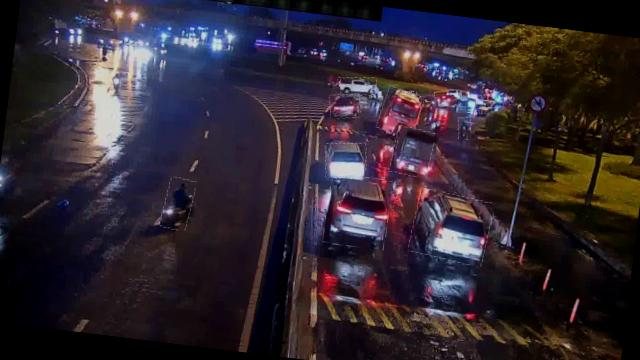Bike: (160, 176, 196, 231), (108, 70, 124, 95), (457, 116, 472, 140)
Bus: (377, 86, 423, 138)
Car: (408, 189, 494, 266), (322, 172, 392, 250), (322, 139, 368, 180), (328, 91, 363, 120), (338, 74, 376, 98), (433, 87, 462, 108)
Truck: (390, 126, 434, 178)
